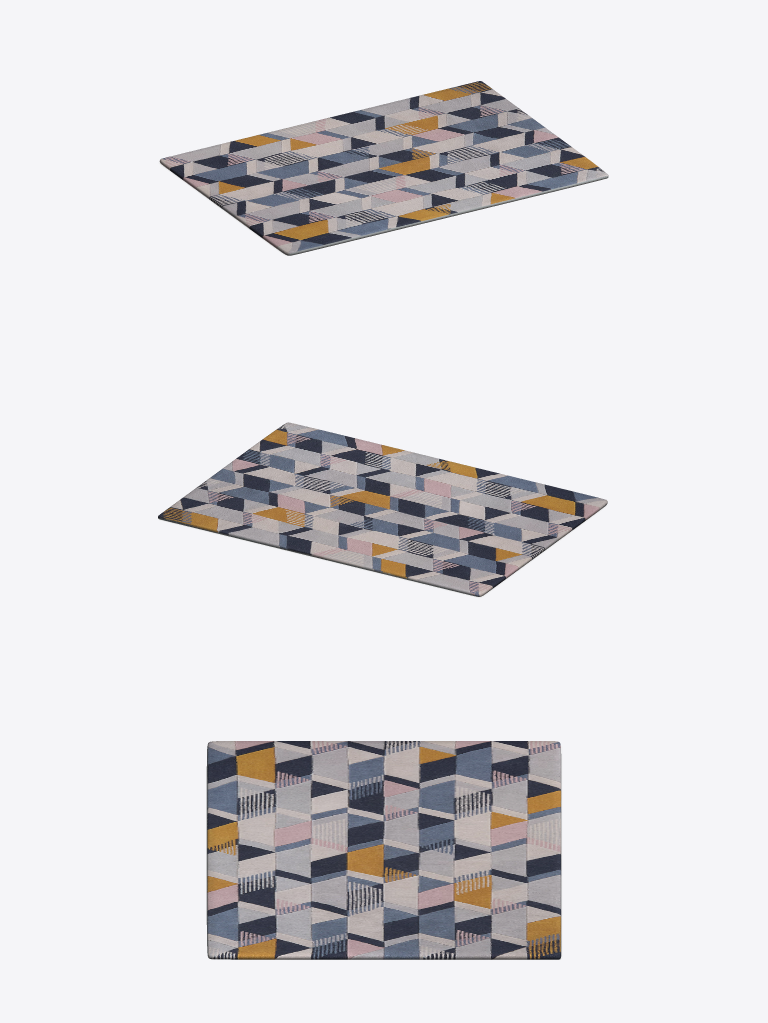
The model's file is ava_large_geometric_hand_tufted_wool_rug.glb.
3 views of the same model, one above another, from view 1: azimuth 30°, elevation 25°; view 2: azimuth 150°, elevation 25°; view 3: azimuth 270°, elevation 25° (orthographic). The views are drawn at different scales.
Parts seen in each view (by area): view 1: Ava_Large_Geometric_Hand_Tufted_Wool_Rug_160_x_230cm_Tonal_B; view 2: Ava_Large_Geometric_Hand_Tufted_Wool_Rug_160_x_230cm_Tonal_B, FLOOR; view 3: Ava_Large_Geometric_Hand_Tufted_Wool_Rug_160_x_230cm_Tonal_B, FLOOR.
Boxes of the visible parts, box(x1,y1,x2,y2) form: Ava_Large_Geometric_Hand_Tufted_Wool_Rug_160_x_230cm_Tonal_B: box(159, 81, 608, 255); Ava_Large_Geometric_Hand_Tufted_Wool_Rug_160_x_230cm_Tonal_B: box(158, 422, 607, 596); FLOOR: box(158, 504, 607, 597); Ava_Large_Geometric_Hand_Tufted_Wool_Rug_160_x_230cm_Tonal_B: box(206, 741, 561, 959); FLOOR: box(210, 746, 562, 959).
Size of the model in its own units: 334 by 2.9 by 334.
2 materials, 2 textured.
